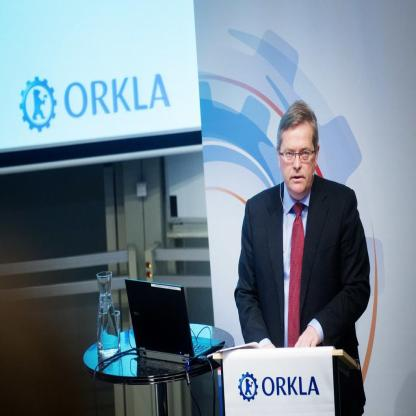board: (124, 278, 226, 362)
